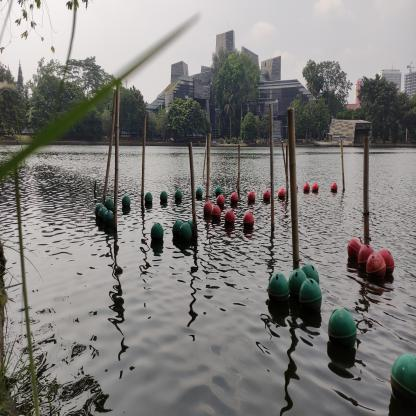green_buoy: (390, 349, 415, 412), (328, 306, 358, 352), (298, 278, 322, 314), (268, 271, 290, 305), (288, 268, 307, 296), (301, 262, 320, 288), (179, 223, 192, 245), (151, 222, 164, 242), (172, 219, 183, 237), (104, 210, 114, 228), (98, 206, 108, 223), (94, 202, 104, 218), (104, 198, 114, 212), (186, 218, 194, 235), (160, 189, 168, 205), (122, 195, 131, 209), (174, 189, 183, 202), (144, 192, 153, 205), (195, 187, 203, 199), (215, 185, 222, 197)
